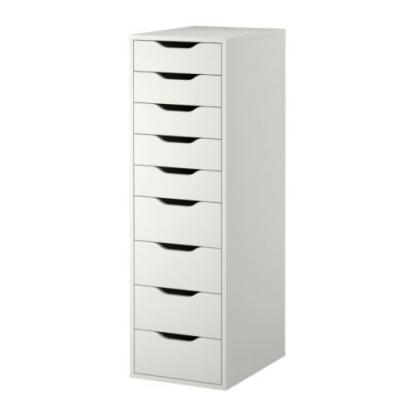Cabinet: (125, 20, 290, 394)
